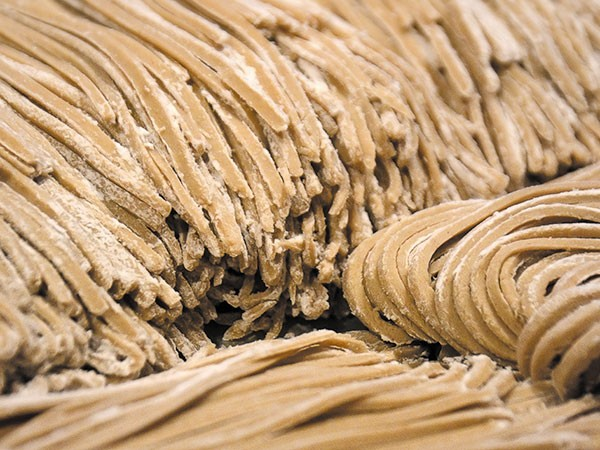Soba: (45, 325, 566, 448), (337, 203, 595, 393)
